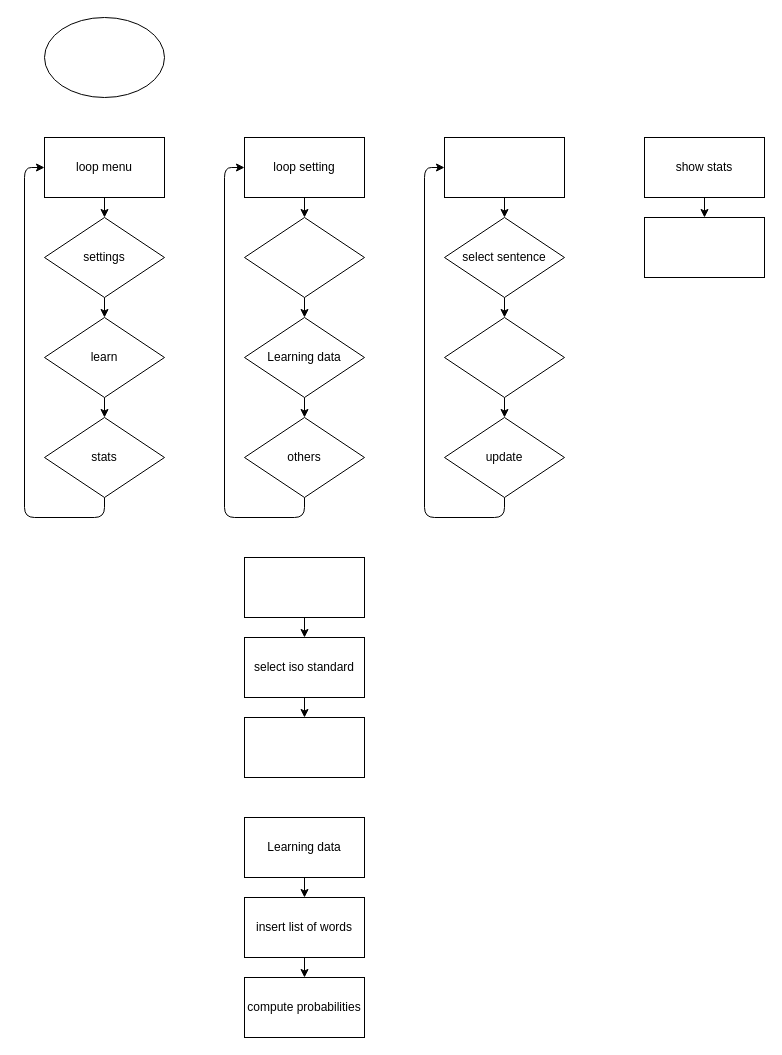
This 782x1055 diagram has some shape labels left out. Each missing label, with the box of its shape:
keyboard: (244, 216, 364, 298)
learn process: (444, 316, 564, 398)
loop keyboard: (244, 556, 364, 618)
loop learn: (444, 136, 564, 198)
maybe reset: (644, 216, 764, 278)
place keys also modifiers: (244, 716, 364, 778)
Start: (44, 16, 164, 98)
